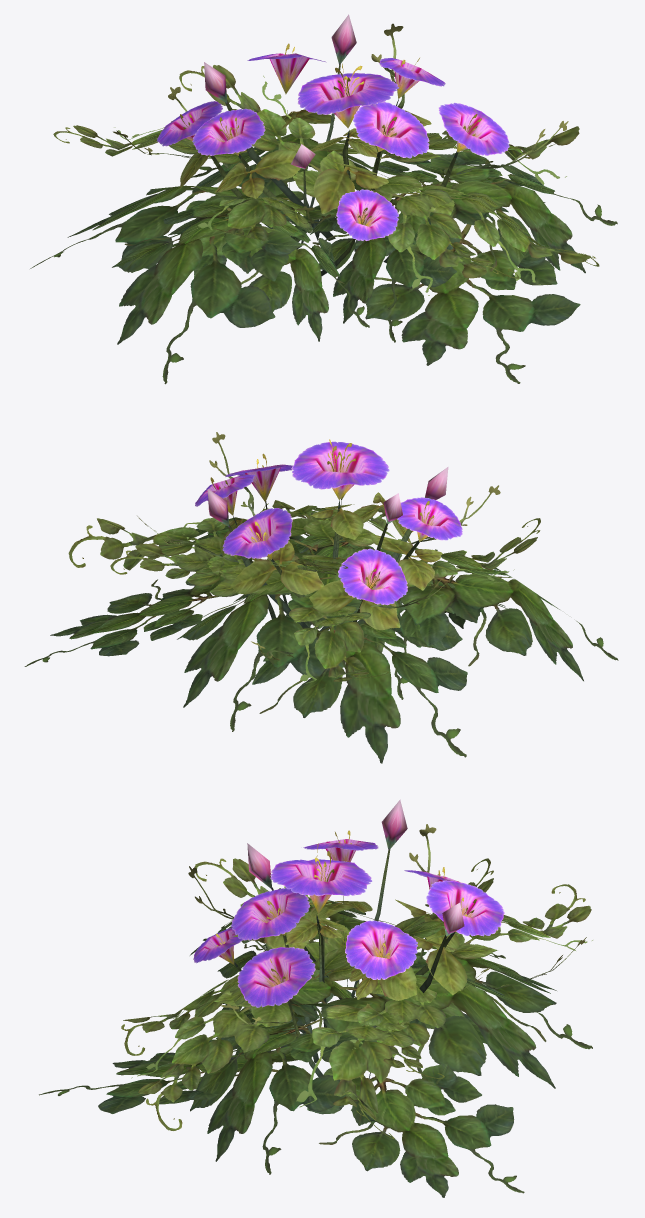
Rendered from wm_牵牛花01.fbx.
3 renders of one model, top to bottom at view 1: azimuth 30°, elevation 25°; view 2: azimuth 150°, elevation 25°; view 3: azimuth 270°, elevation 25°, orthographic. The views are drawn at different scales.
Parts seen in each view (by area): view 1: wm_牵牛花01; view 2: wm_牵牛花01; view 3: wm_牵牛花01.
Part boxes in pixels (box(x1,y1,x2,y2)): wm_牵牛花01: box(30, 14, 617, 384); wm_牵牛花01: box(24, 432, 618, 763); wm_牵牛花01: box(39, 799, 592, 1197).
Size of the model in its own units: 217 by 101 by 221.
